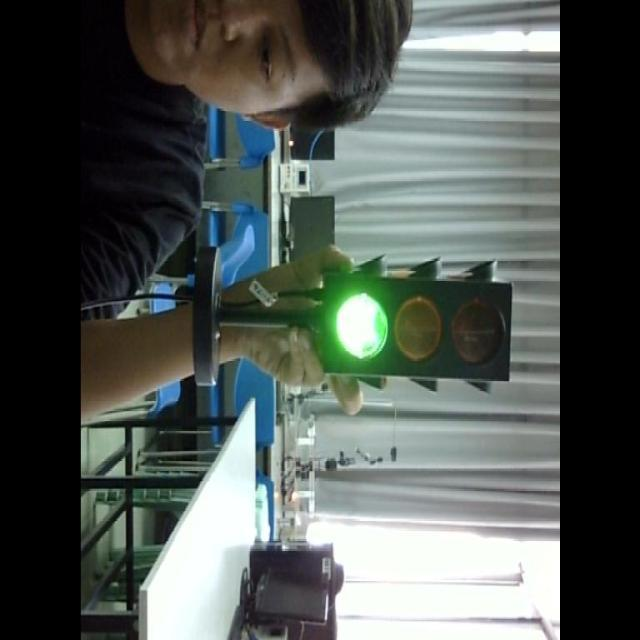green light: (332, 286, 392, 368)
